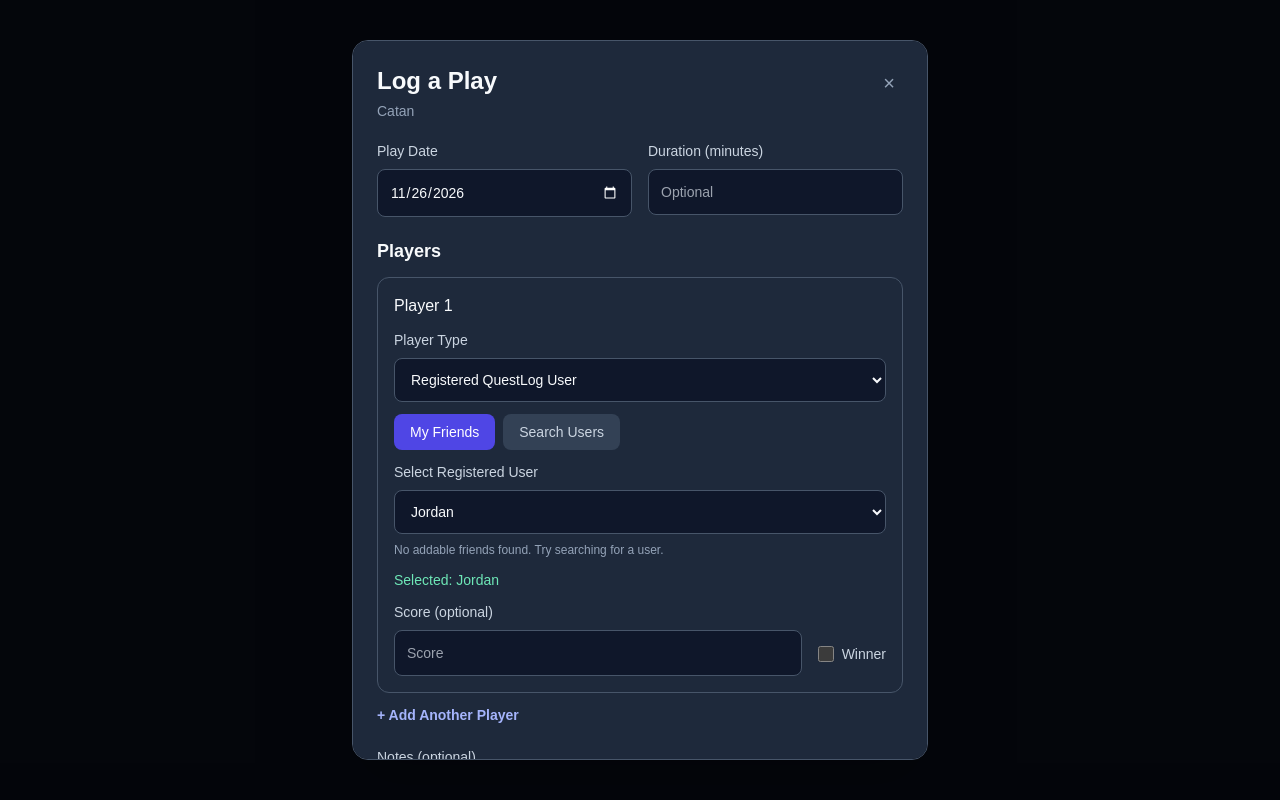
Test: LogPlayForm › submits a play session with players and scores
Click the button "+ Add Another Player" at (448, 715), box [377,705,519,725]
(page scrolled)
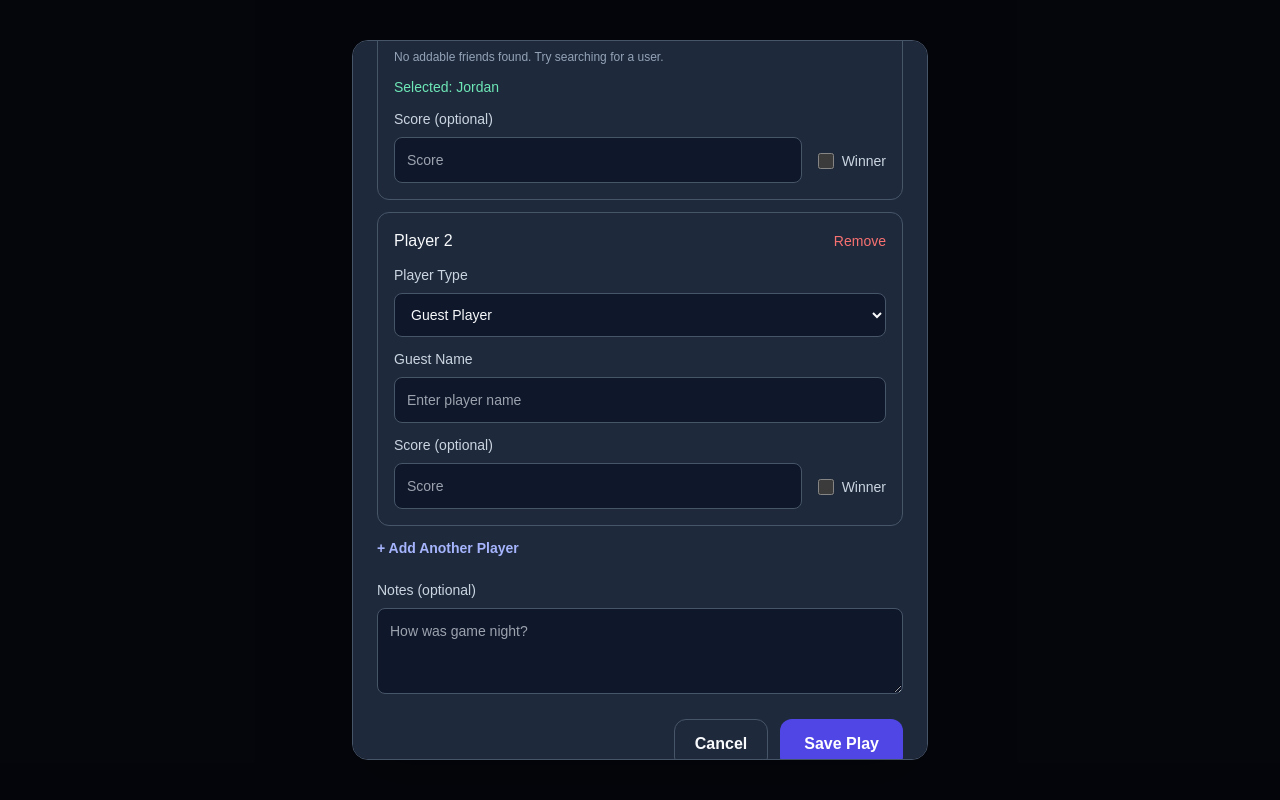
Type "Sam" into the field with placeholder "Enter player name" at (640, 400), box [394,377,886,423]
Type "10" into the number field with placeholder "Score" below "Selected:" at (598, 160), box [394,137,802,183]
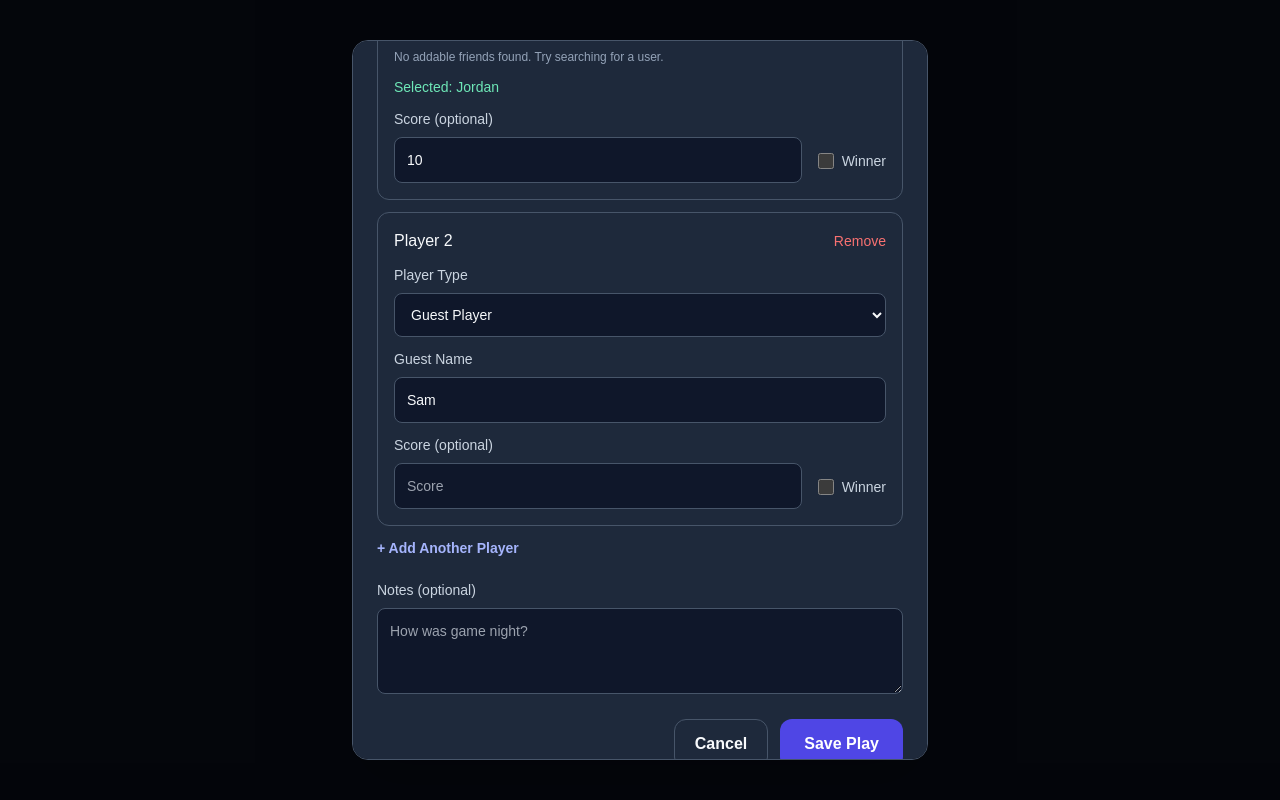
Type "8" into the number field with placeholder "Score" below "Guest Name" at (598, 486), box [394,463,802,509]
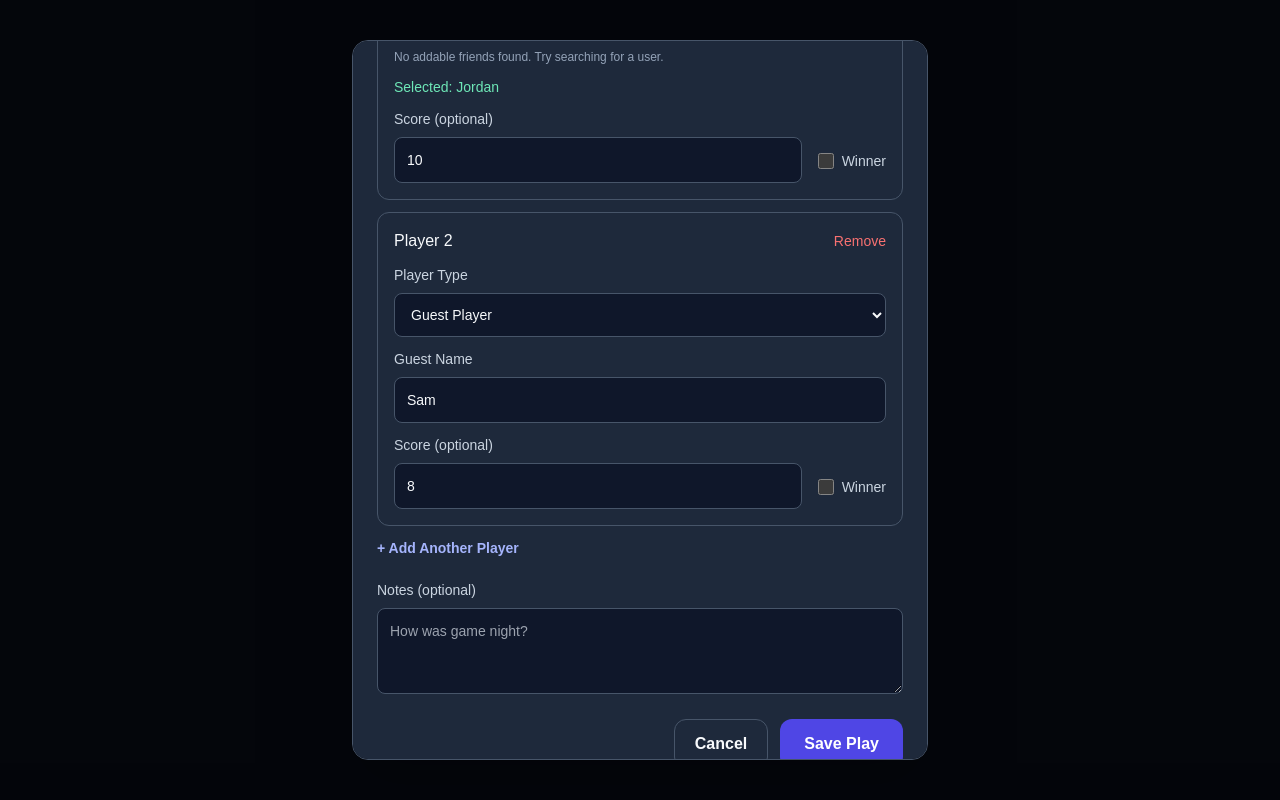
Click the 1st checkbox labelled "Winner" at (826, 161), box [818,153,834,169]
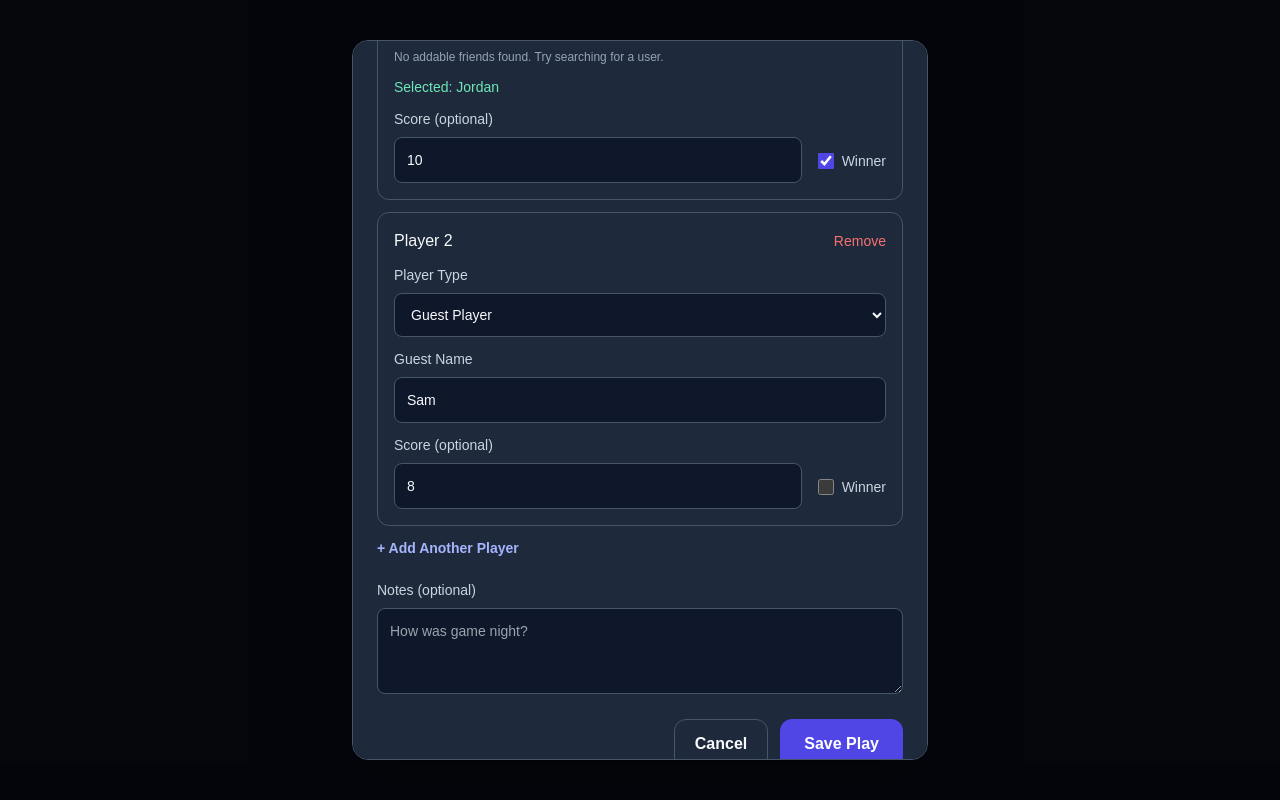
Type "Testing QuestLog" into the text box with placeholder "How was game night?" at (640, 651), box [377,608,903,694]
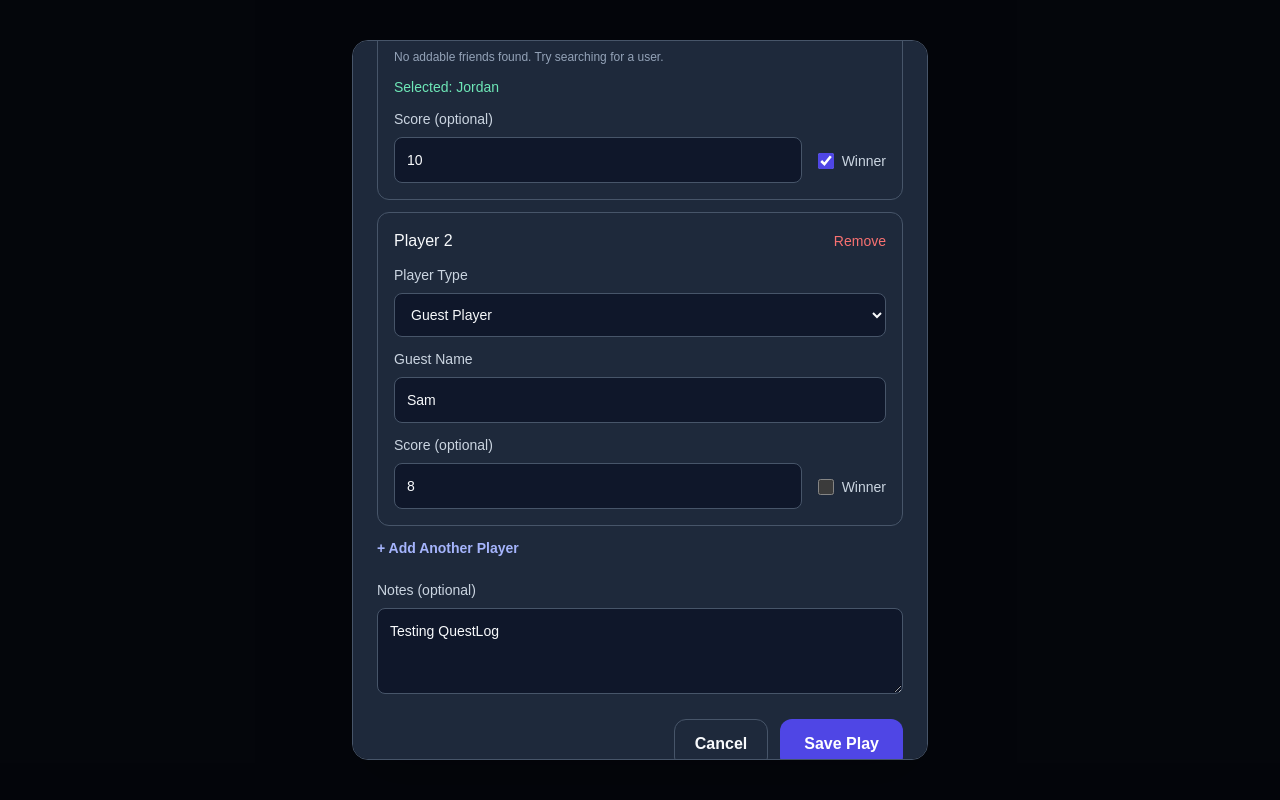
Click the button "Save Play" at (842, 744), box [780,719,903,769]
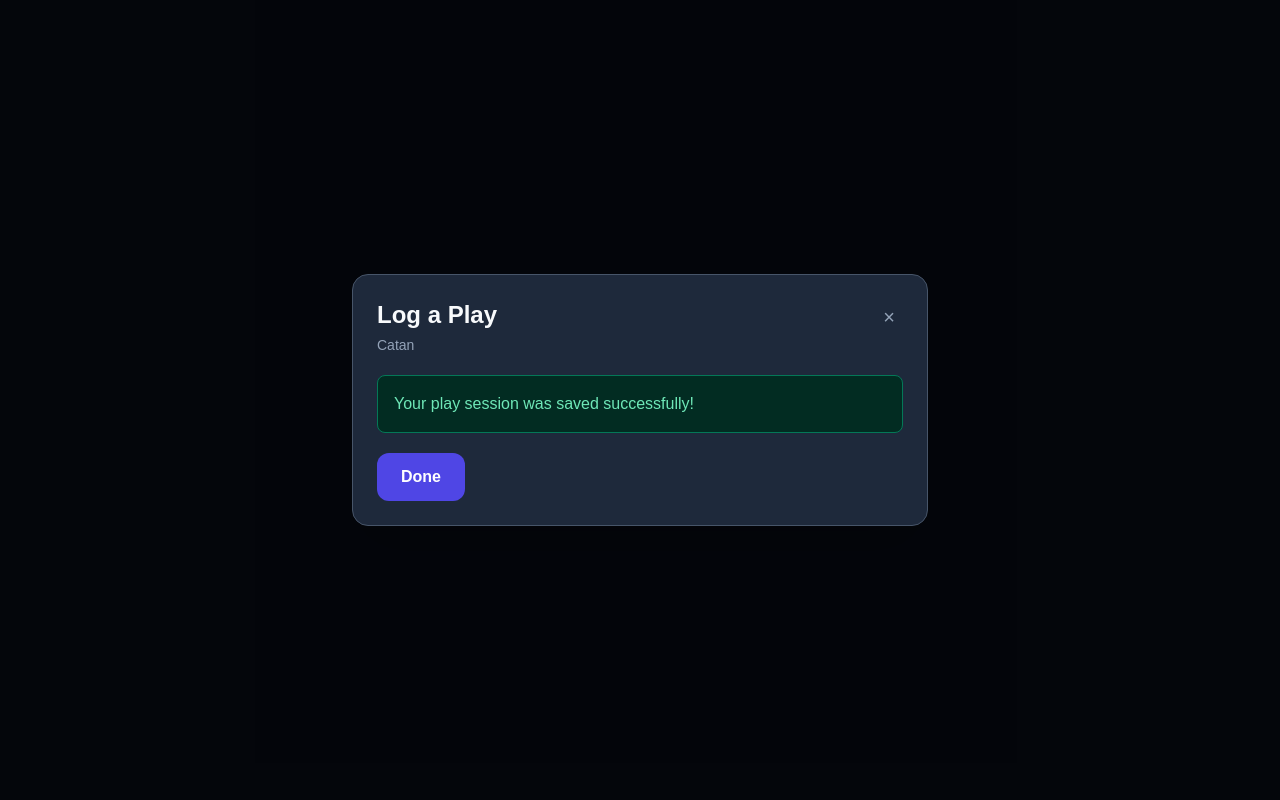
Now the text "Your play session was saved successfully!" is shown, box [377,375,903,433]
